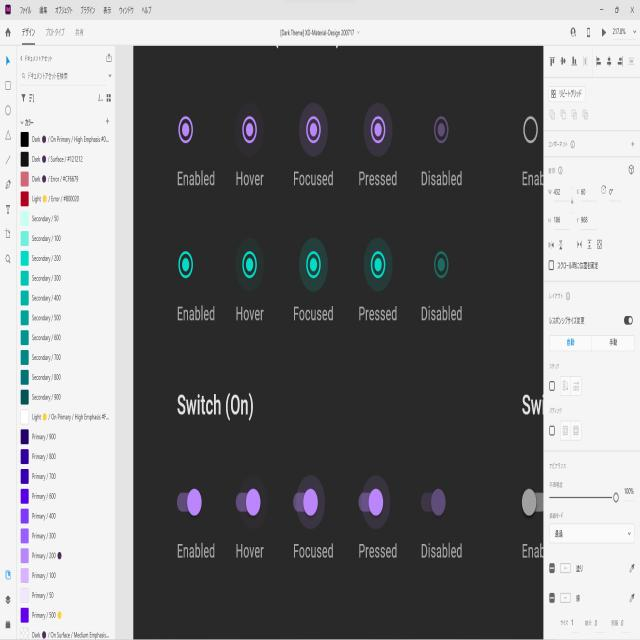radio: (304, 246, 324, 281), (176, 249, 195, 283), (304, 111, 322, 146), (432, 112, 450, 146), (176, 112, 195, 144), (369, 247, 388, 279), (240, 112, 258, 145), (240, 247, 258, 280), (369, 114, 387, 146), (433, 250, 450, 282)
toggle: (173, 485, 206, 519), (418, 482, 446, 522), (234, 482, 262, 520), (355, 486, 386, 520), (292, 482, 320, 519), (623, 314, 633, 326)
